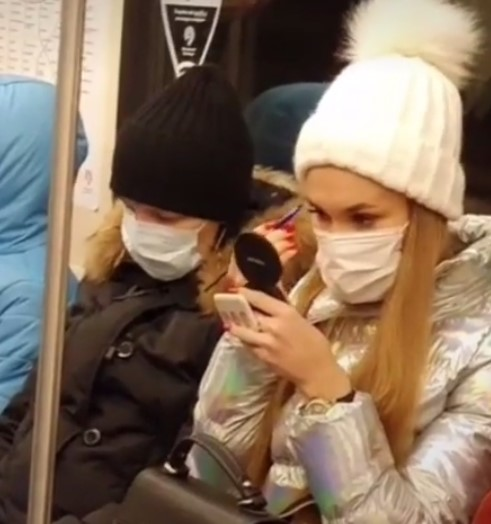face_with_mask: (294, 123, 448, 306), (107, 142, 254, 284)
